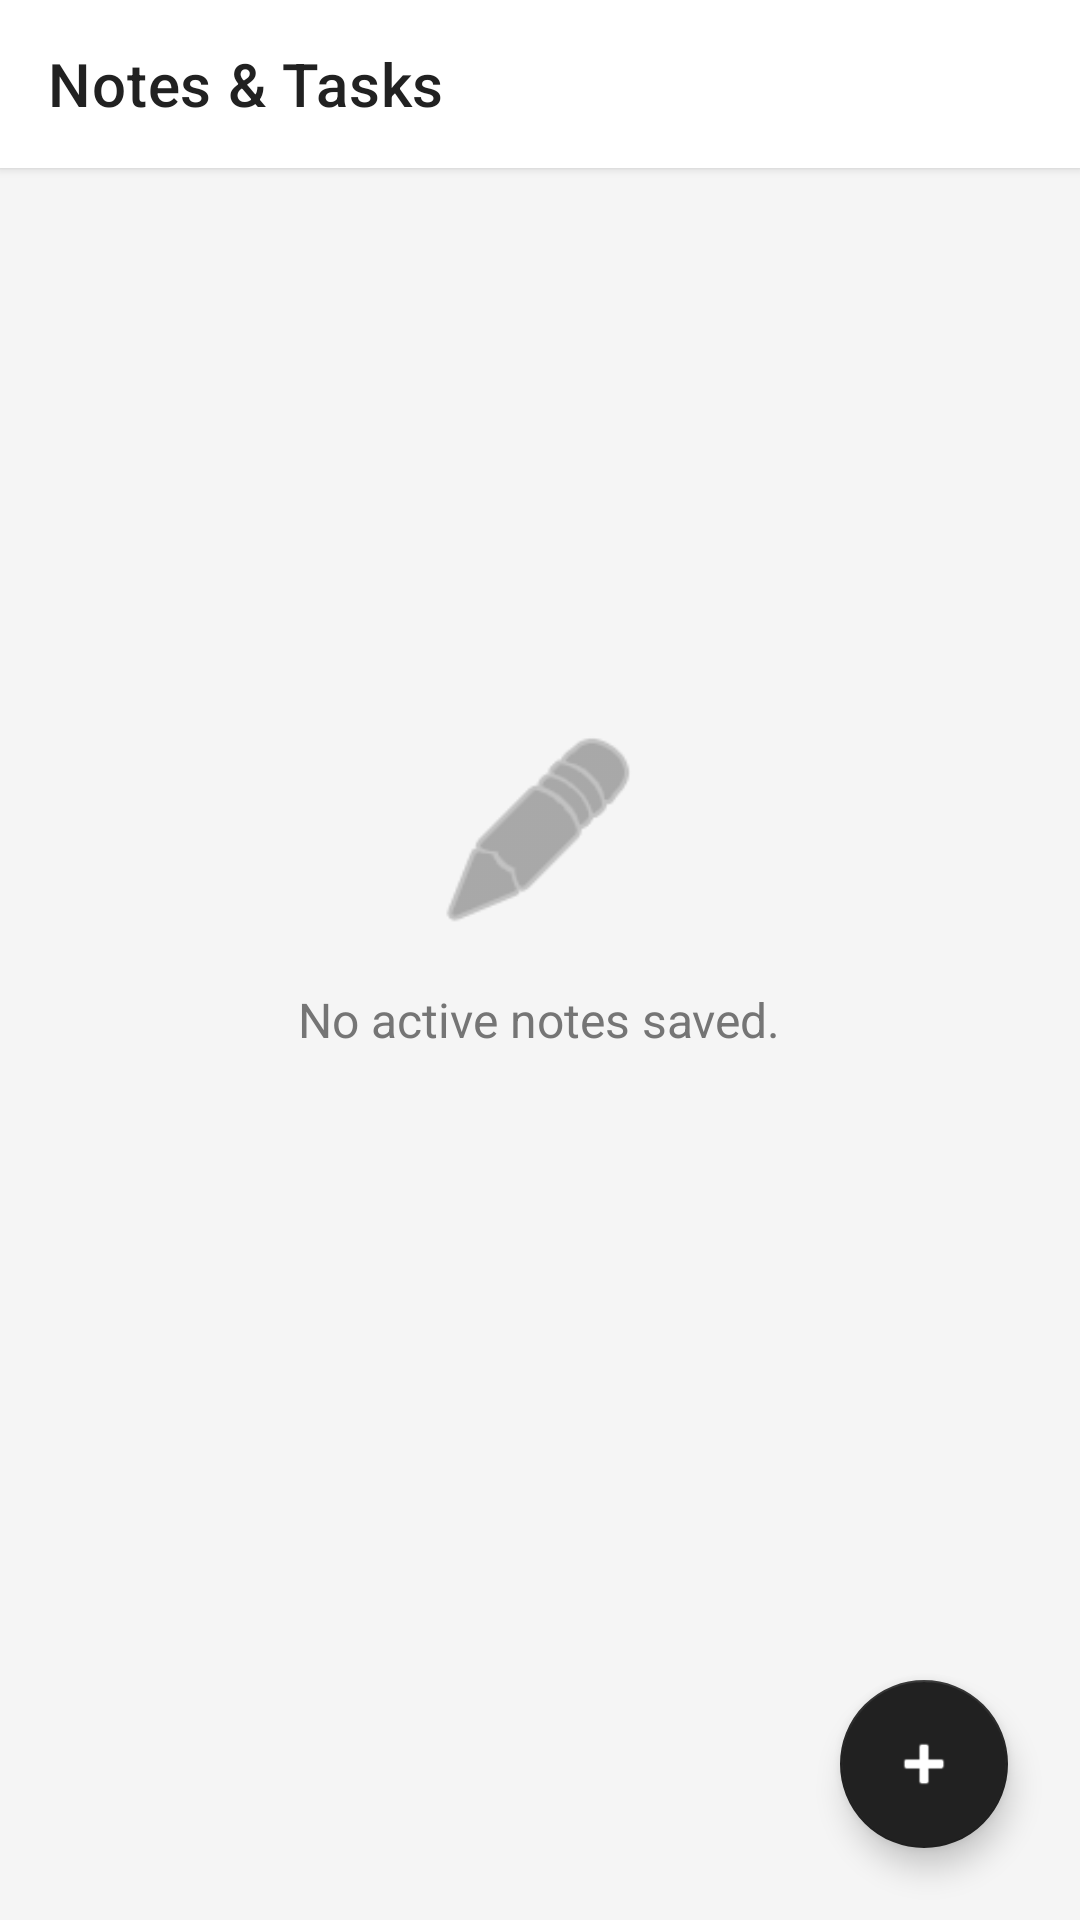

Where icons sit on this 1080×1920 app screen, as (x1, y1, x2, y2):
Add new note: (840, 1680, 1008, 1848)
